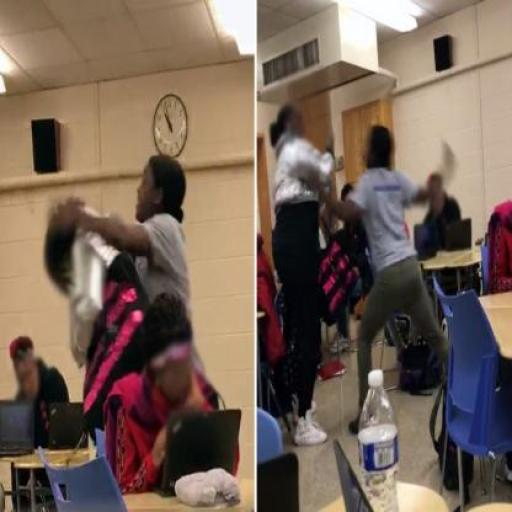Fighting: (268, 102, 512, 450), (45, 160, 242, 512)
